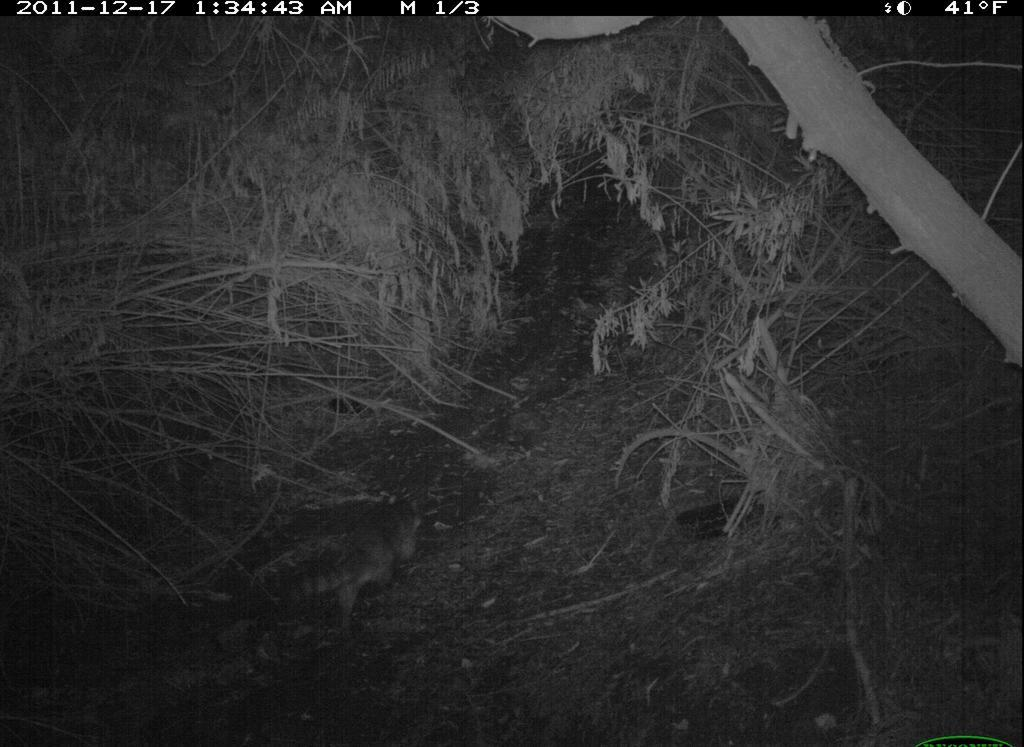raccoon: (269, 488, 440, 641)
